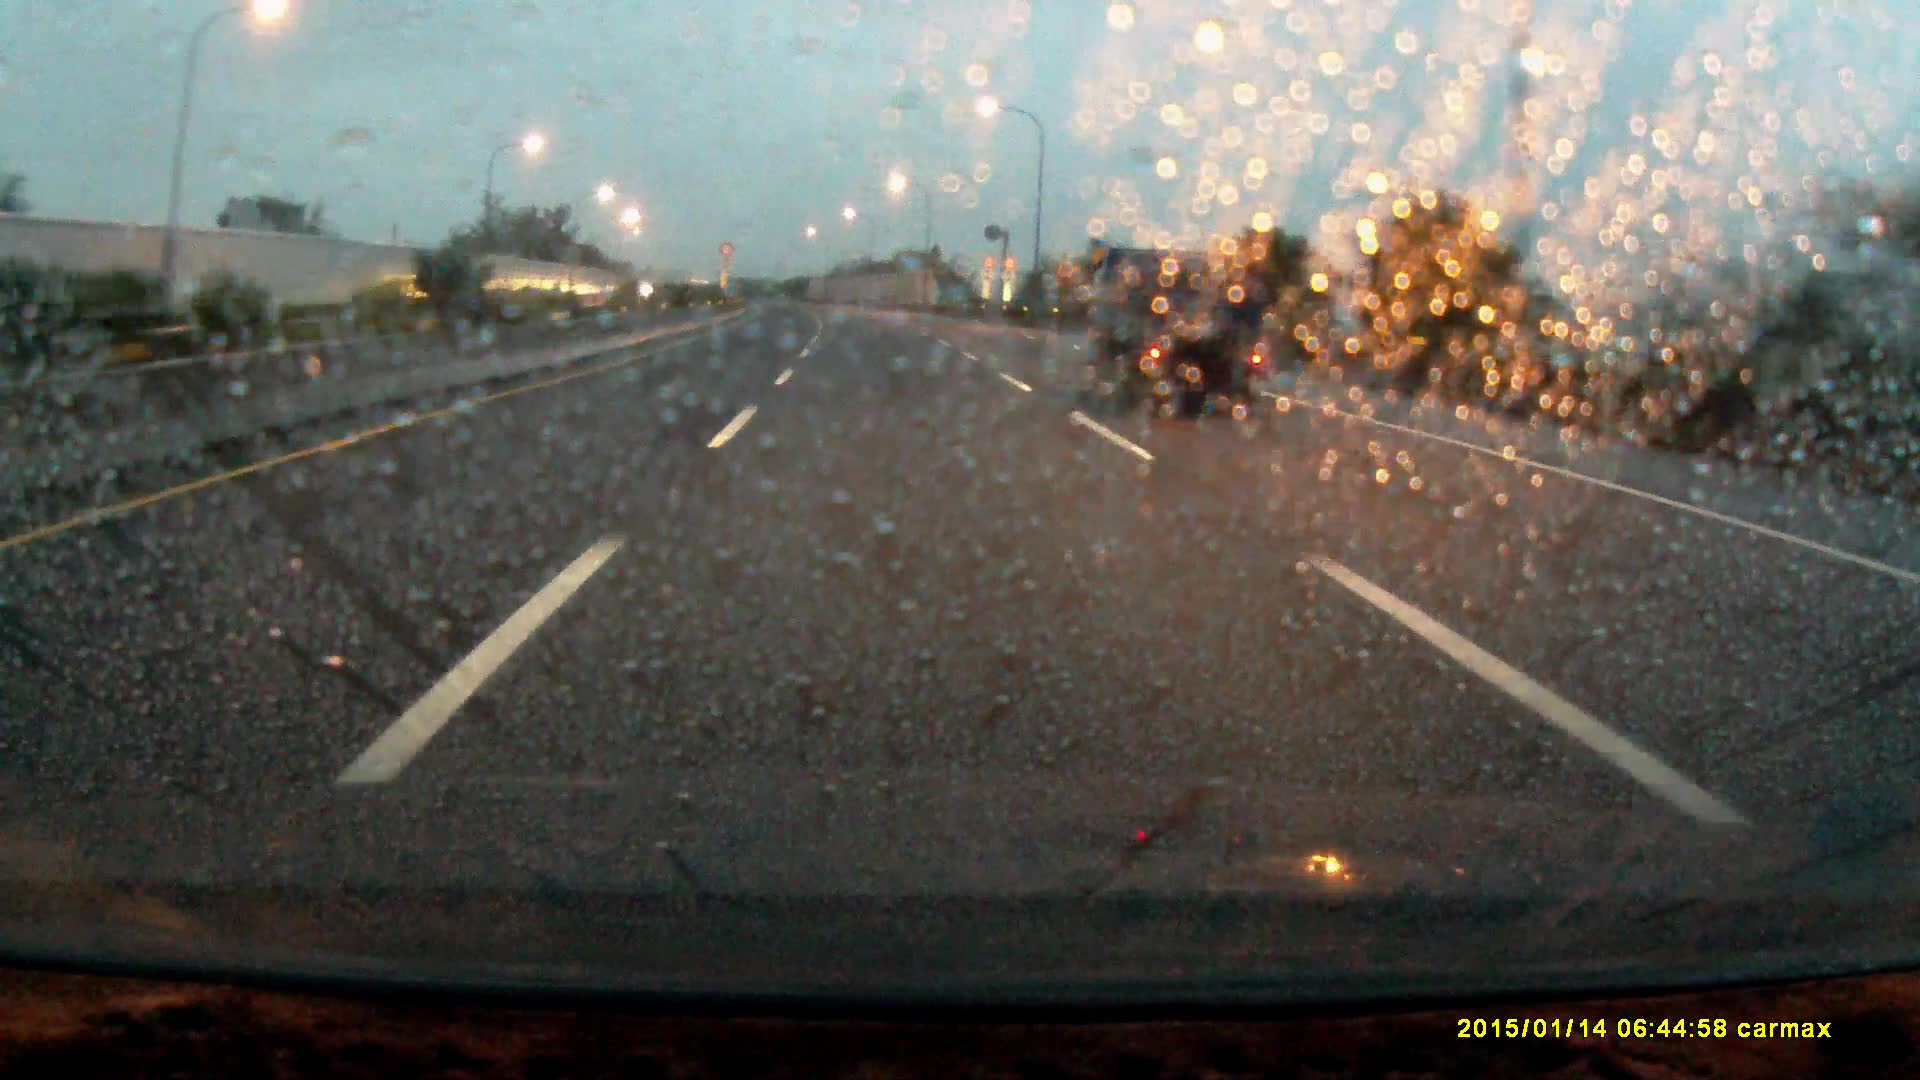vehicle: (1080, 245, 1265, 411)
